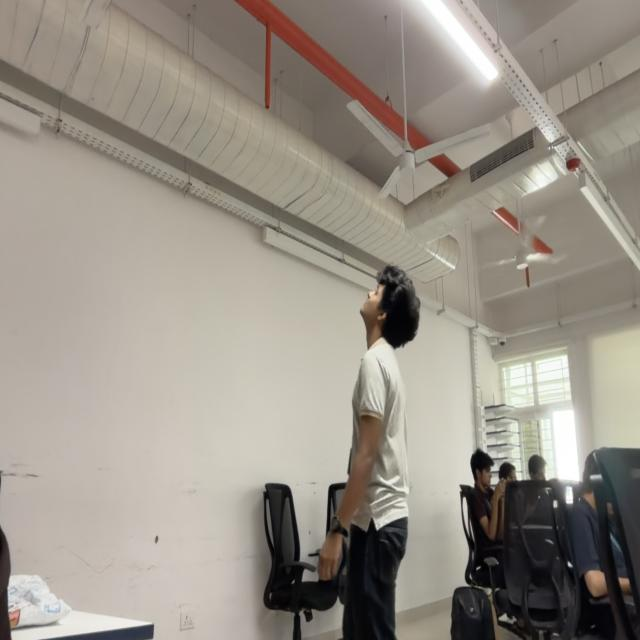kshitij: (360, 264, 420, 346)
